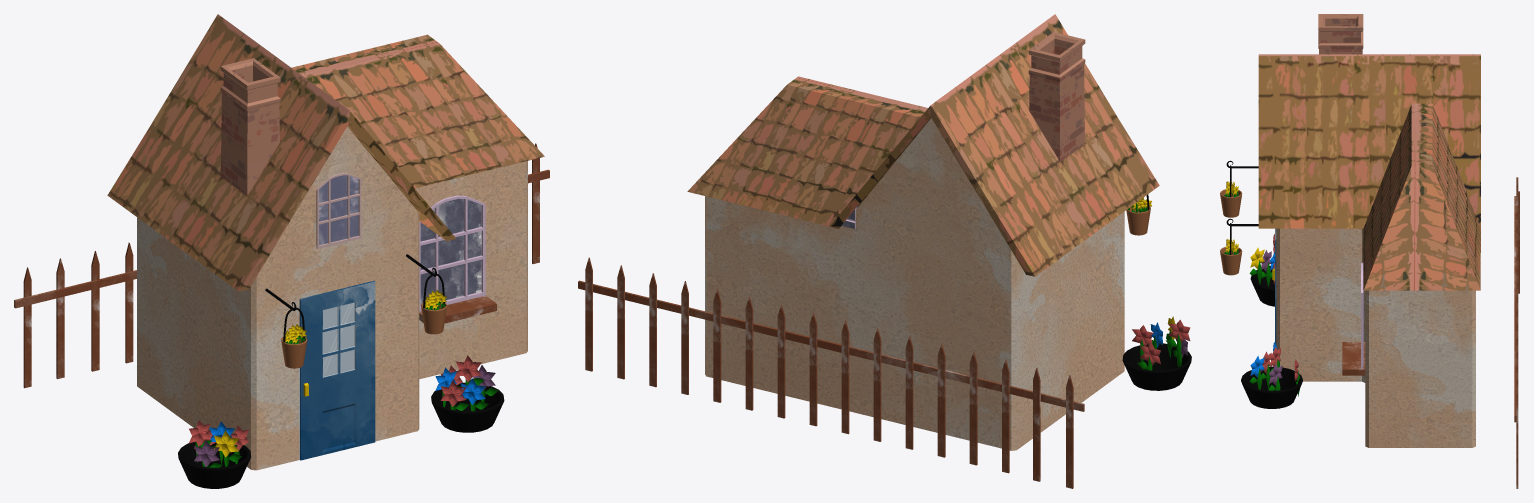
Rendered from MaisonKirie.fbx.
3 views of the same model, side by side, from view 1: azimuth 30°, elevation 25°; view 2: azimuth 150°, elevation 25°; view 3: azimuth 270°, elevation 25° (orthographic). The views are drawn at different scales.
Parts seen in each view (by area): view 1: maison, grandToit, petitToit, porte, cheminee, fenetreArche_grande, fenetreArche_petite, planter, planter1, cloturePlanche2, planter2 (×2), cloturePlanche3 (+5 smaller); view 2: maison, grandToit, petitToit, cheminee, cloturePlanche2, planter, cloturePlanche6, cloturePlanche9, cloturePlanche11, cloturePlanche5, cloturePlanche10, cloturePlanche7 (+10 smaller); view 3: grandToit, maison, petitToit, cheminee, planter1, planter2 (×2), plancheFenetre, cloturePlanche2, planter.
Part boxes in pixels (<box>): maison: <box>137,126,527,470</box>; grandToit: <box>107,14,456,291</box>; petitToit: <box>291,34,544,188</box>; porte: <box>299,280,375,460</box>; cheminee: <box>220,58,280,195</box>; fenetreArche_grande: <box>419,195,485,311</box>; fenetreArche_petite: <box>316,173,361,248</box>; planter: <box>178,441,250,488</box>; planter1: <box>431,382,504,432</box>; cloturePlanche2: <box>14,169,549,308</box>; planter2 (×2): <box>281,301,446,368</box>; cloturePlanche3: <box>56,258,64,379</box>; maison: <box>705,118,1124,450</box>; grandToit: <box>830,14,1159,276</box>; petitToit: <box>687,76,927,226</box>; cheminee: <box>1028,32,1085,161</box>; cloturePlanche2: <box>578,280,1084,411</box>; planter: <box>1122,343,1191,390</box>; cloturePlanche6: <box>937,343,945,457</box>; cloturePlanche9: <box>841,320,849,434</box>; cloturePlanche11: <box>777,304,785,418</box>; cloturePlanche5: <box>969,351,977,465</box>; cloturePlanche10: <box>809,312,817,426</box>; cloturePlanche7: <box>905,335,913,449</box>; grandToit: <box>1258,54,1480,228</box>; maison: <box>1276,228,1475,447</box>; petitToit: <box>1363,103,1480,290</box>; cheminee: <box>1318,14,1363,54</box>; planter1: <box>1241,366,1302,408</box>; planter2 (×2): <box>1220,189,1242,275</box>; plancheFenetre: <box>1342,342,1365,375</box>; cloturePlanche2: <box>1514,196,1516,422</box>; planter: <box>1250,265,1274,306</box>.
Bounding box in the file's own units: 31.54 × 20.46 × 18.17.
Materials: 15 (8 with a texture image).
